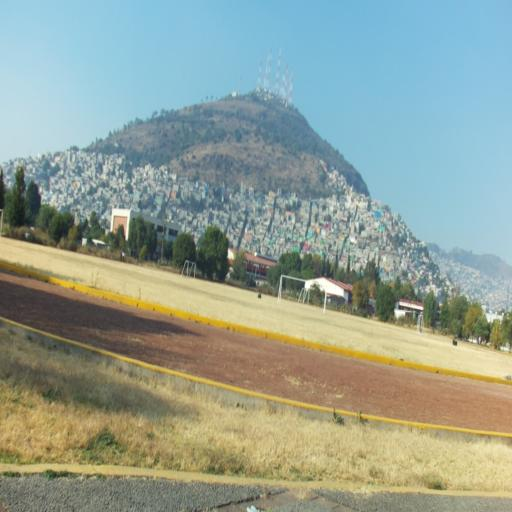drones: (245, 502, 264, 512)
